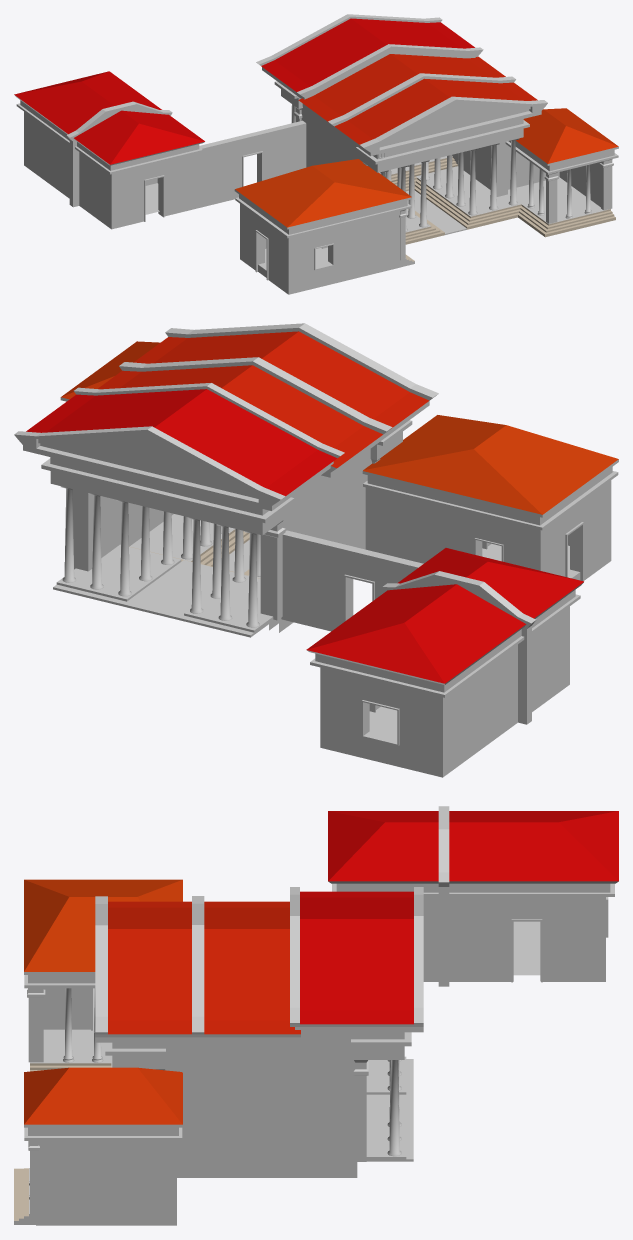
3 renders of one model, top to bottom at view 1: azimuth 30°, elevation 25°; view 2: azimuth 150°, elevation 25°; view 3: azimuth 270°, elevation 25°, orthographic. The views are drawn at different scales.
Visible parts, largest first — view 1: Plane_008; view 2: Plane_008; view 3: Plane_008.
Boxes of the visible parts, x1,y1,x2,y2 form: Plane_008: [14, 14, 618, 294]; Plane_008: [14, 323, 618, 777]; Plane_008: [14, 806, 618, 1225].
Bounding box in the file's own units: 29.01 × 9.37 × 24.37.
